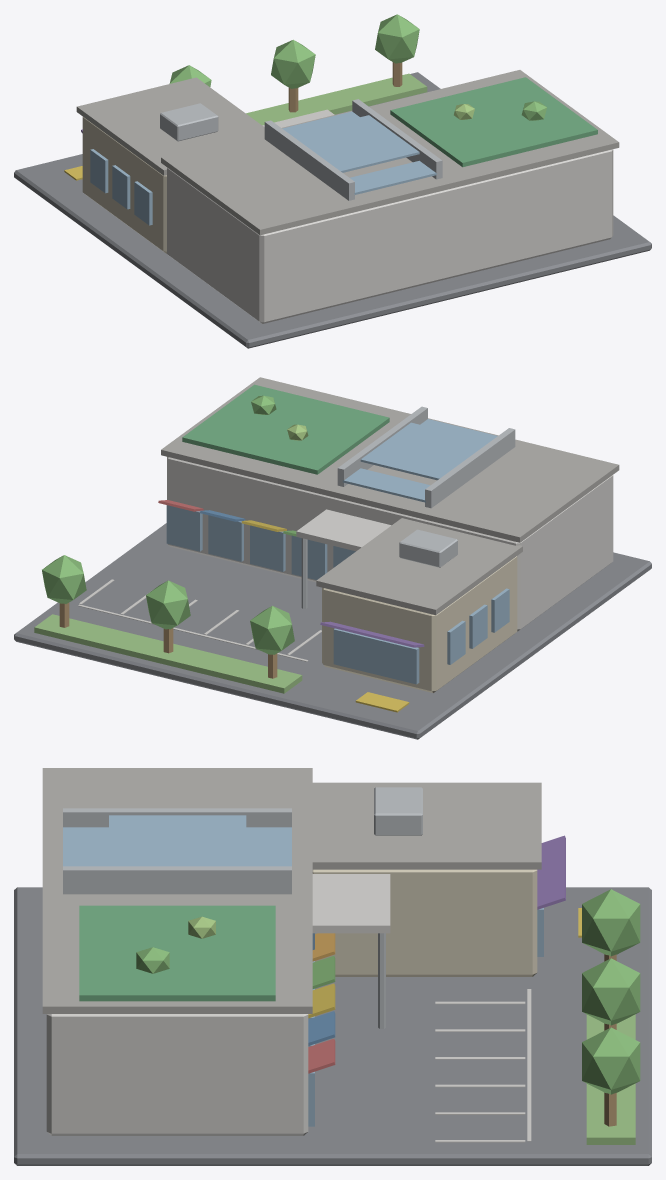
Rendered from comercial__shopping.glb.
The picture shows the model from 3 angles, top to bottom: view 1: azimuth 30°, elevation 25°; view 2: azimuth 150°, elevation 25°; view 3: azimuth 270°, elevation 25°; orthographic projection. The views are drawn at different scales.
Visible parts, largest first — view 1: comercial__shopping; view 2: comercial__shopping; view 3: comercial__shopping.
Boxes of the visible parts, x1=… form: comercial__shopping: x1=14, y1=14, x2=651, y2=348; comercial__shopping: x1=14, y1=377, x2=651, y2=739; comercial__shopping: x1=14, y1=768, x2=651, y2=1165.
Bounding box in the file's own units: 3.9 × 1.18 × 3.9.
